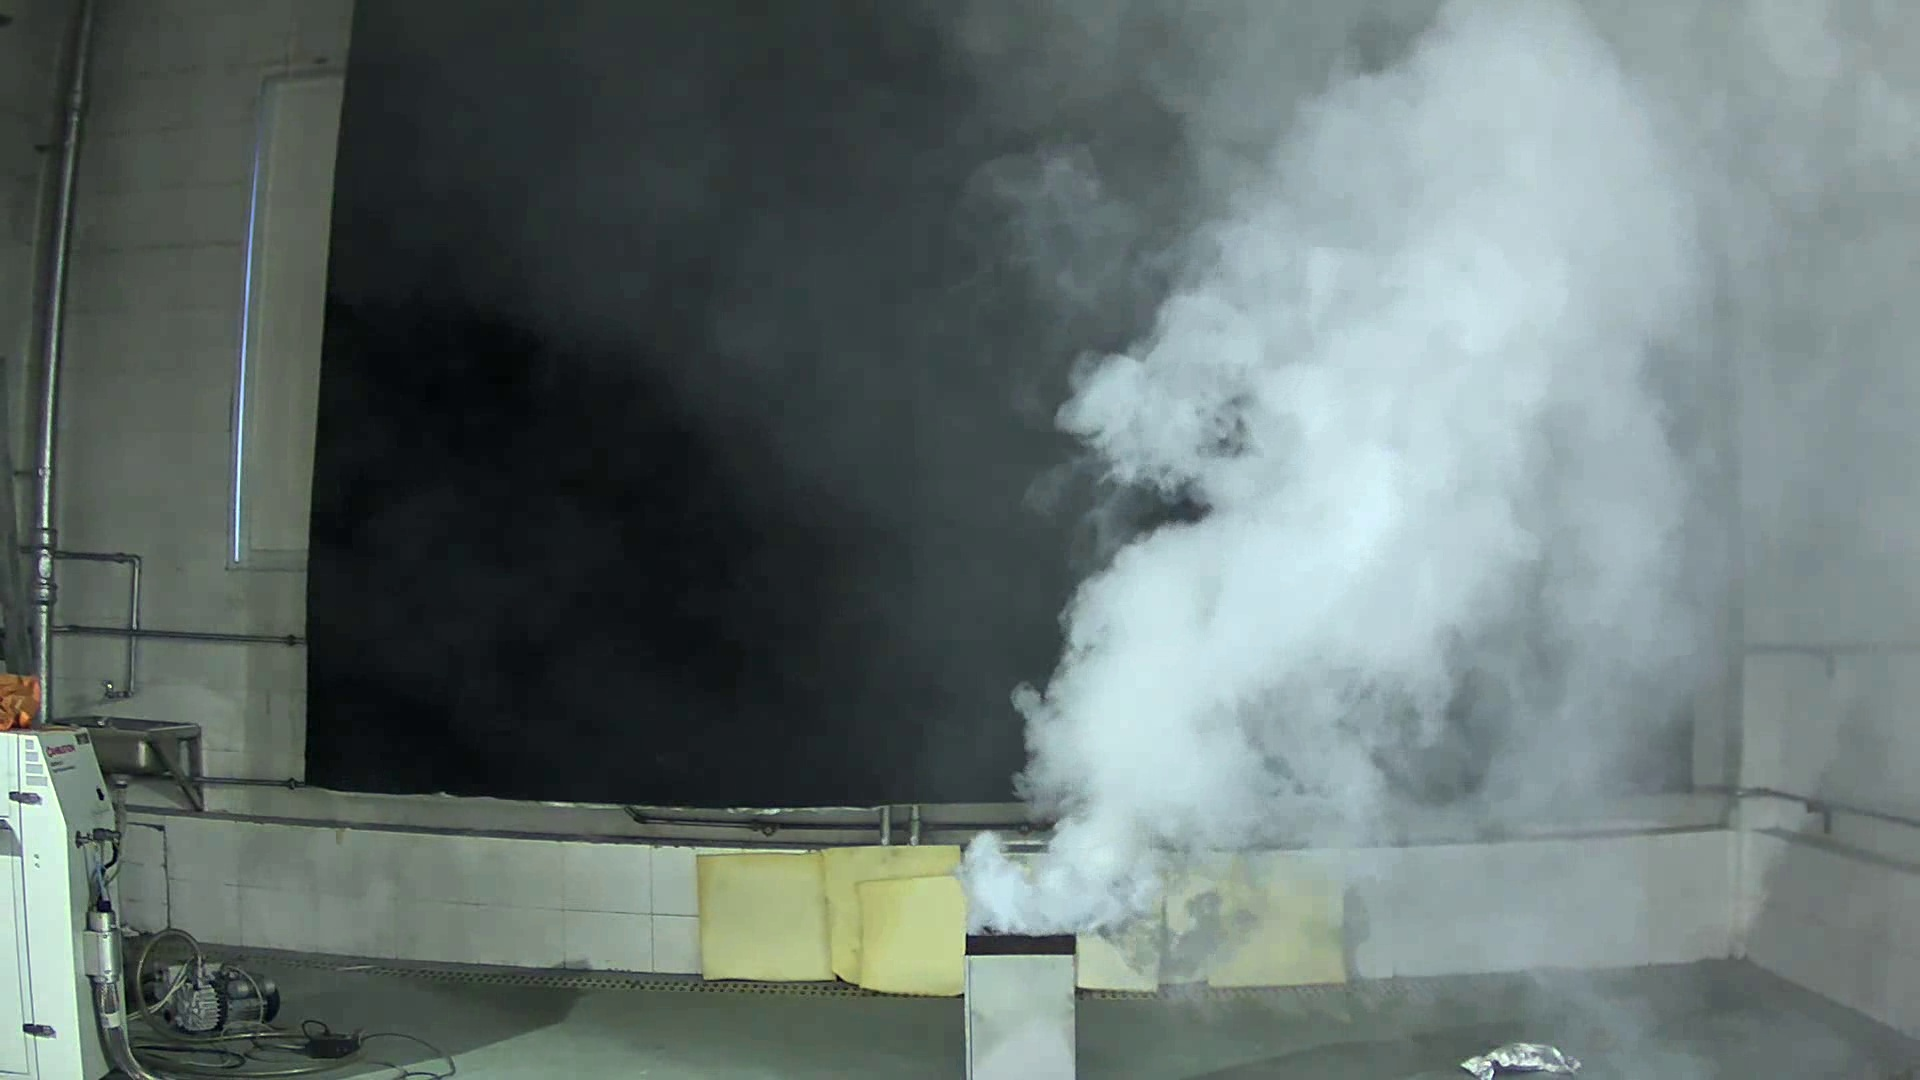smoke: (936, 9, 1721, 926)
